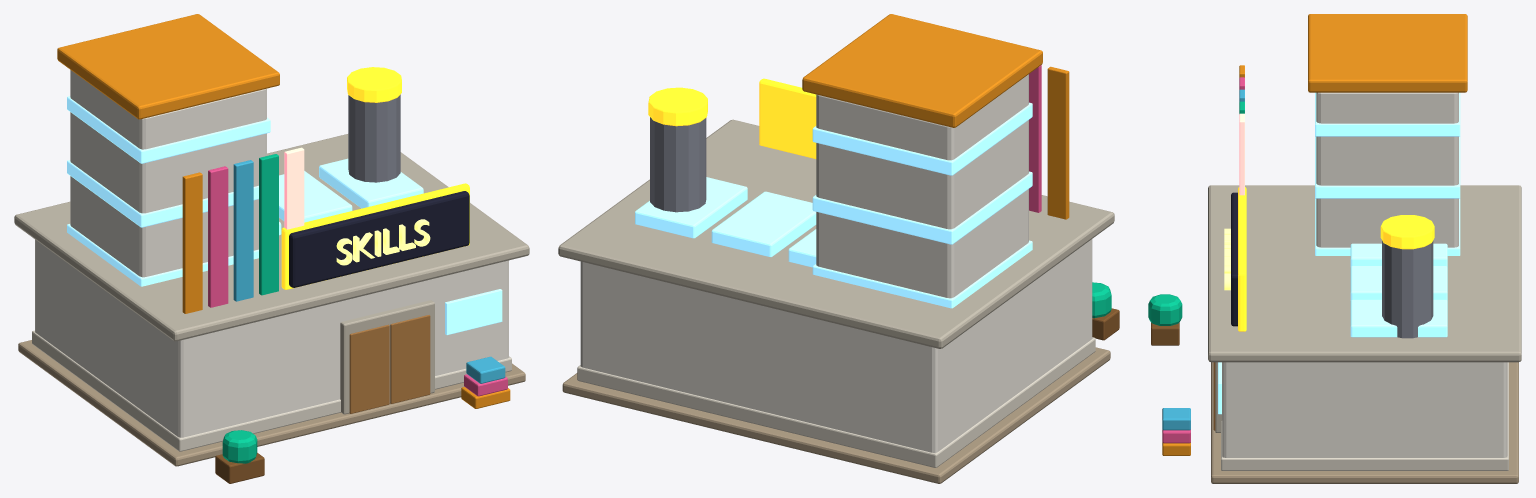
File: skill-forge-DxrNVkEf.glb
3 renders of one model, left to right at view 1: azimuth 30°, elevation 25°; view 2: azimuth 150°, elevation 25°; view 3: azimuth 270°, elevation 25°, orthographic. The views are drawn at different scales.
Visible parts, largest first — view 1: hall.001, tower, roof_slab.001, tower_cap, sign_board.001, plinth.001, base_band.001, chimney, door_l, door_r, tower_band_3, spine_2 (+18 smaller); view 2: hall.001, roof_slab.001, tower, tower_cap, plinth.001, base_band.001, chimney, skylight_1, sign_rim.001, spine_0, tower_band_2, tower_band_3 (+7 smaller); view 3: roof_slab.001, hall.001, tower, tower_cap, plinth.001, chimney, base_band.001, skylight_2, tower_band_2, tower_band_3, chimney_glow, skylight_1 (+10 smaller).
Part boxes in pixels (box(x1,y1,x2,y2)): hall.001: box(35, 239, 508, 437); tower: box(70, 70, 266, 277); roof_slab.001: box(14, 134, 529, 341); tower_cap: box(57, 14, 279, 119); sign_board.001: box(289, 191, 469, 287); plinth.001: box(18, 340, 525, 466); base_band.001: box(32, 330, 511, 451); chimney: box(348, 94, 400, 182); door_l: box(349, 324, 389, 413); door_r: box(390, 315, 430, 403); tower_band_3: box(67, 96, 270, 163); spine_2: box(233, 160, 253, 301); hall.001: box(580, 239, 1092, 452); roof_slab.001: box(558, 119, 1114, 348); tower: box(816, 74, 1028, 298); tower_cap: box(802, 14, 1042, 127); plinth.001: box(562, 347, 1110, 483); base_band.001: box(577, 337, 1095, 467); chimney: box(650, 117, 706, 212); skylight_1: box(711, 191, 816, 257); sign_rim.001: box(759, 78, 816, 158); spine_0: box(1047, 66, 1069, 219); tower_band_2: box(812, 171, 1032, 244); tower_band_3: box(812, 102, 1032, 175); roof_slab.001: box(1208, 185, 1521, 362); hall.001: box(1222, 362, 1507, 457); tower: box(1316, 92, 1458, 247); tower_cap: box(1308, 14, 1467, 92); plinth.001: box(1211, 362, 1518, 483); chimney: box(1382, 240, 1433, 338); base_band.001: box(1221, 362, 1508, 470); skylight_2: box(1350, 299, 1447, 337); tower_band_2: box(1315, 136, 1460, 198); tower_band_3: box(1315, 92, 1460, 136); chimney_glow: box(1380, 215, 1434, 249); skylight_1: box(1350, 266, 1447, 300).
Size of the model in its own units: 14 by 12.05 by 13.1.
